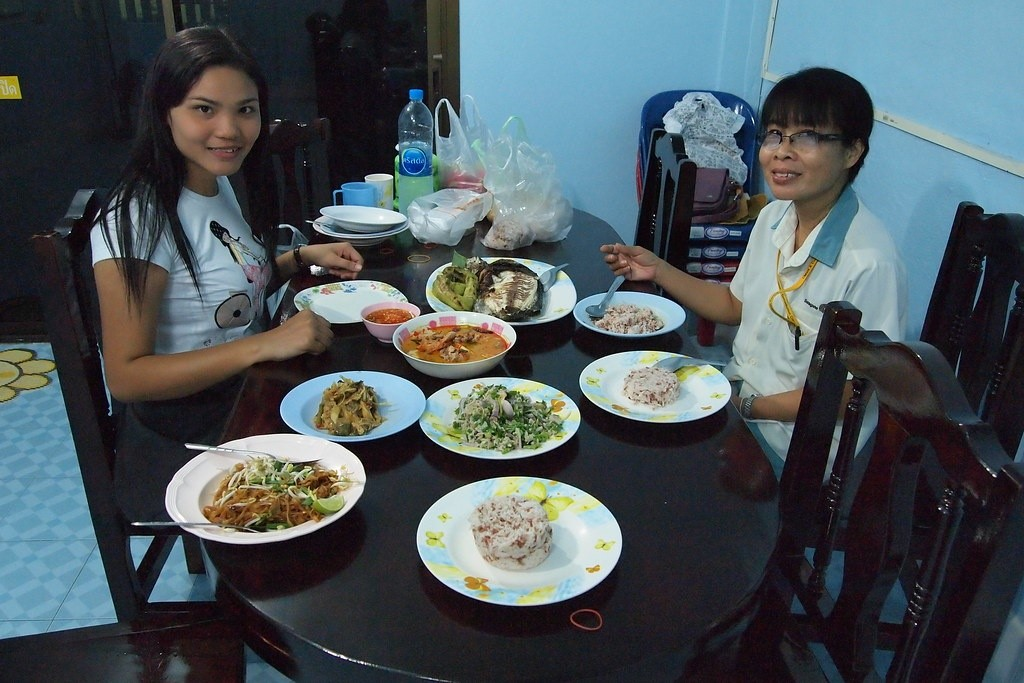face_no_mask: (146, 23, 264, 177), (753, 74, 862, 204)
